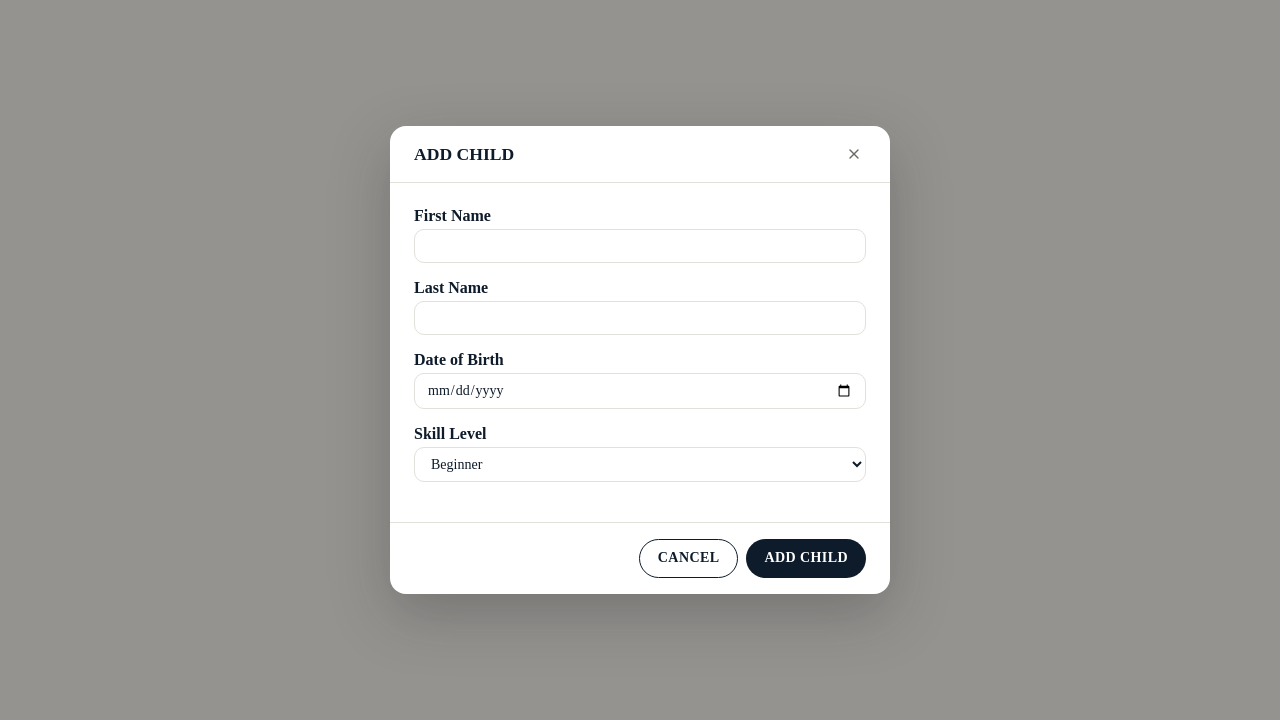
Test: AddChildModal › shows the backend error message and keeps the dialog open on a failed save
Type "New" into the field labelled "First Name" at (640,246), box [414,229,866,263]
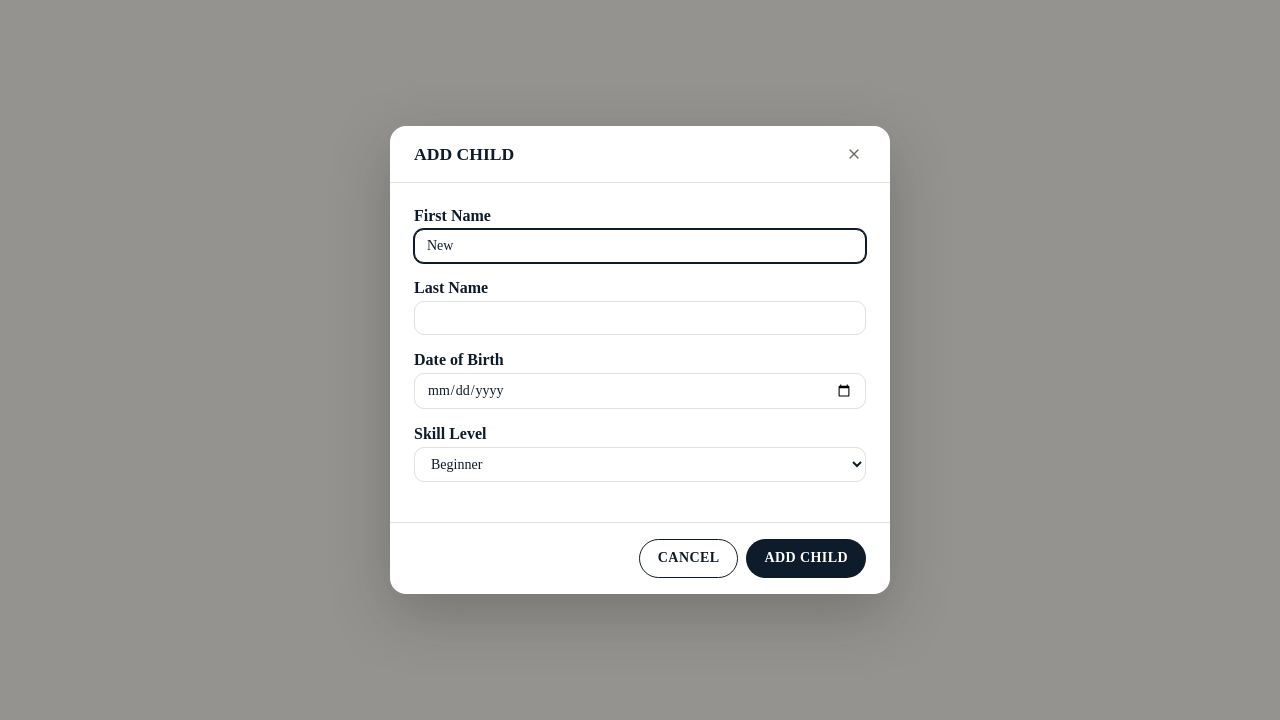
Type "Kid" into the field labelled "Last Name" at (640,318), box [414,301,866,335]
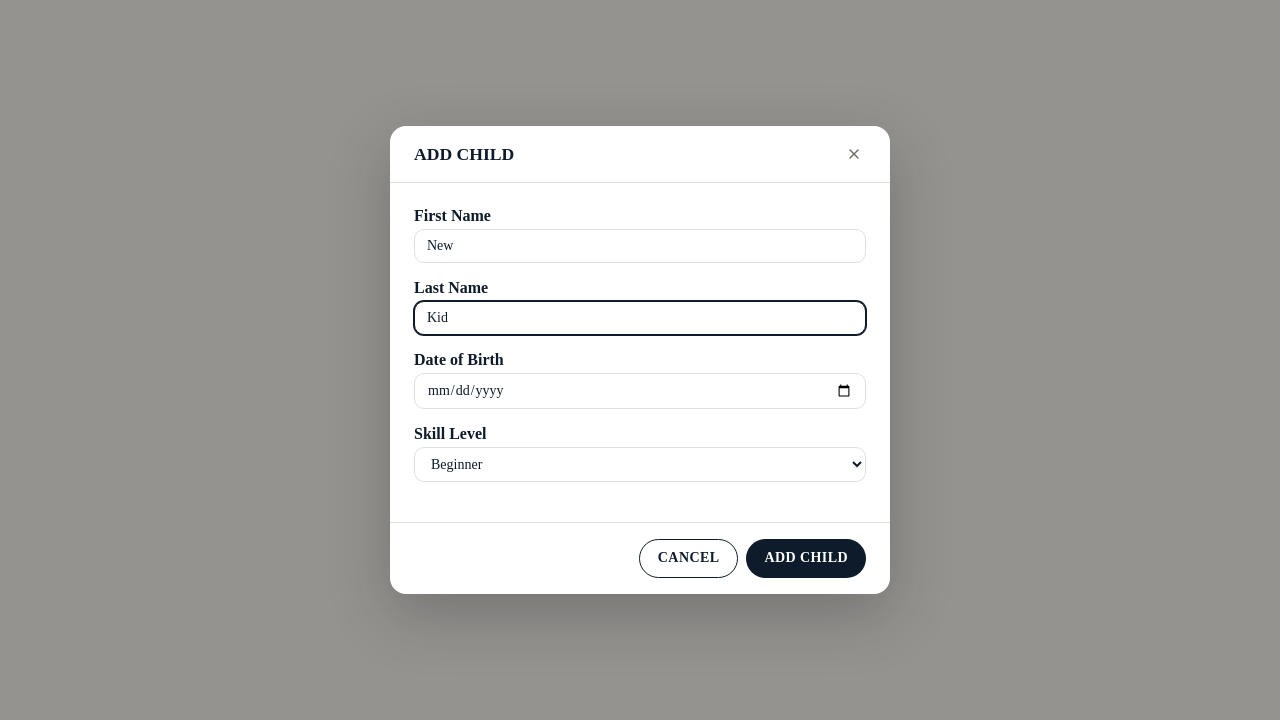
Type "2018-01-01" into the date field labelled "Date of Birth" at (640,391), box [414,373,866,409]
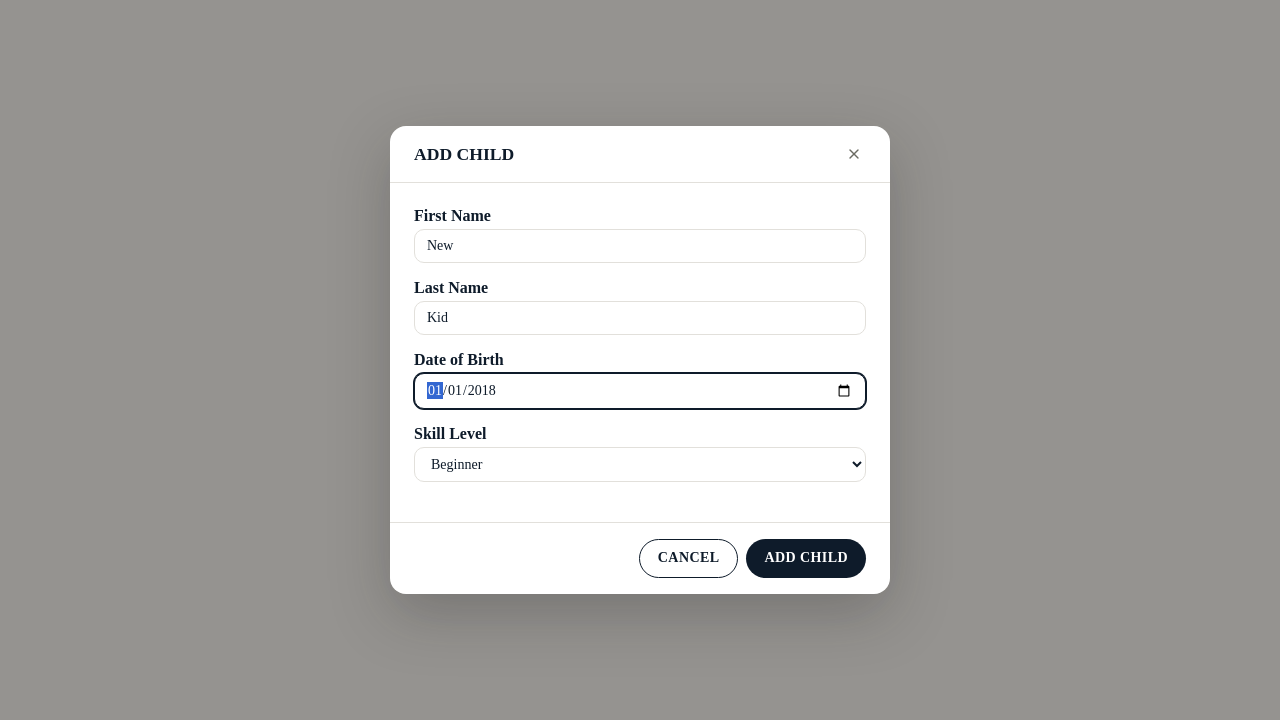
Click the button "Add Child" at (806,558), box [746,539,866,578]
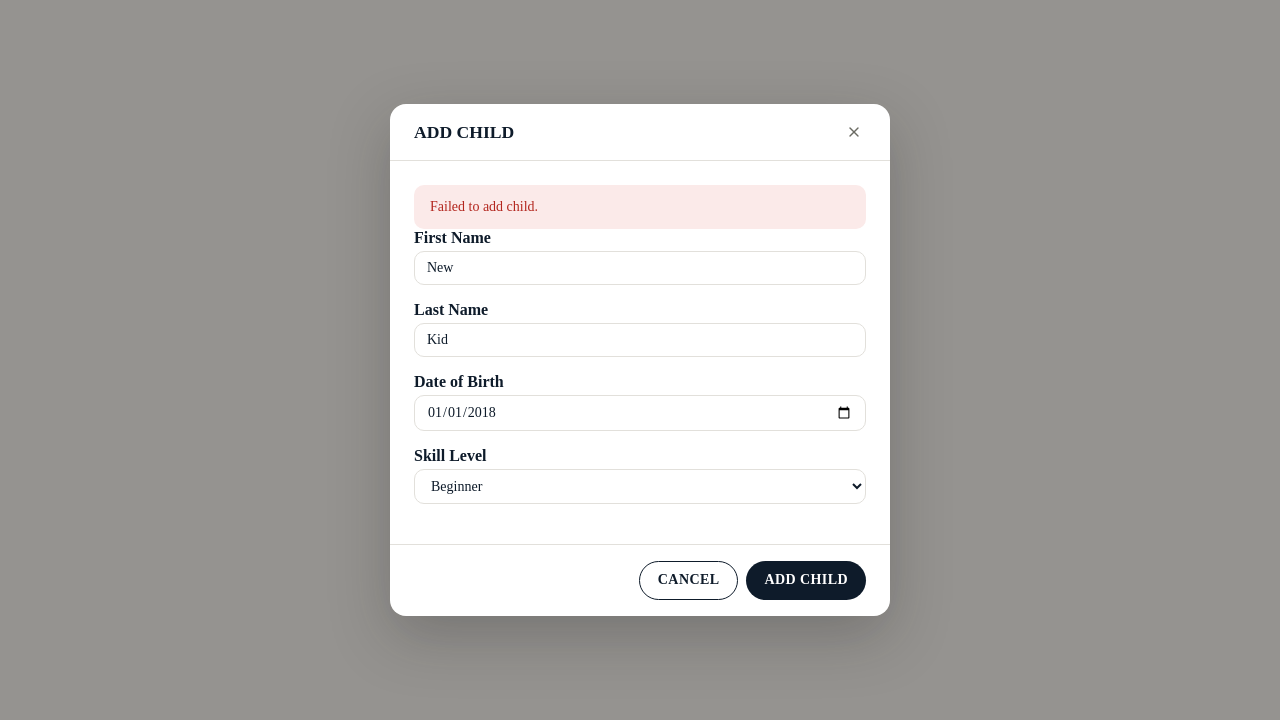
Result: the text "Failed to add child." is shown at [414,185,866,229]
